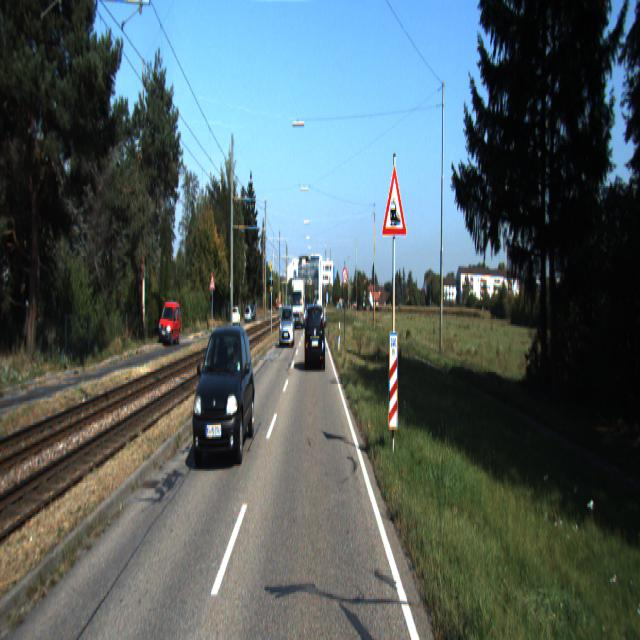Car: (190, 318, 256, 472), (305, 304, 326, 372), (160, 300, 182, 348), (292, 276, 305, 330), (280, 304, 295, 348)
